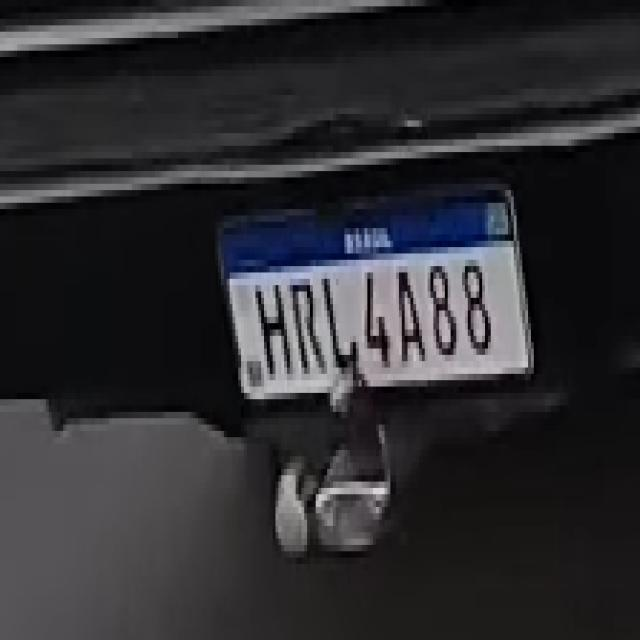Placa_mercosul_carro: (216, 179, 534, 400)
